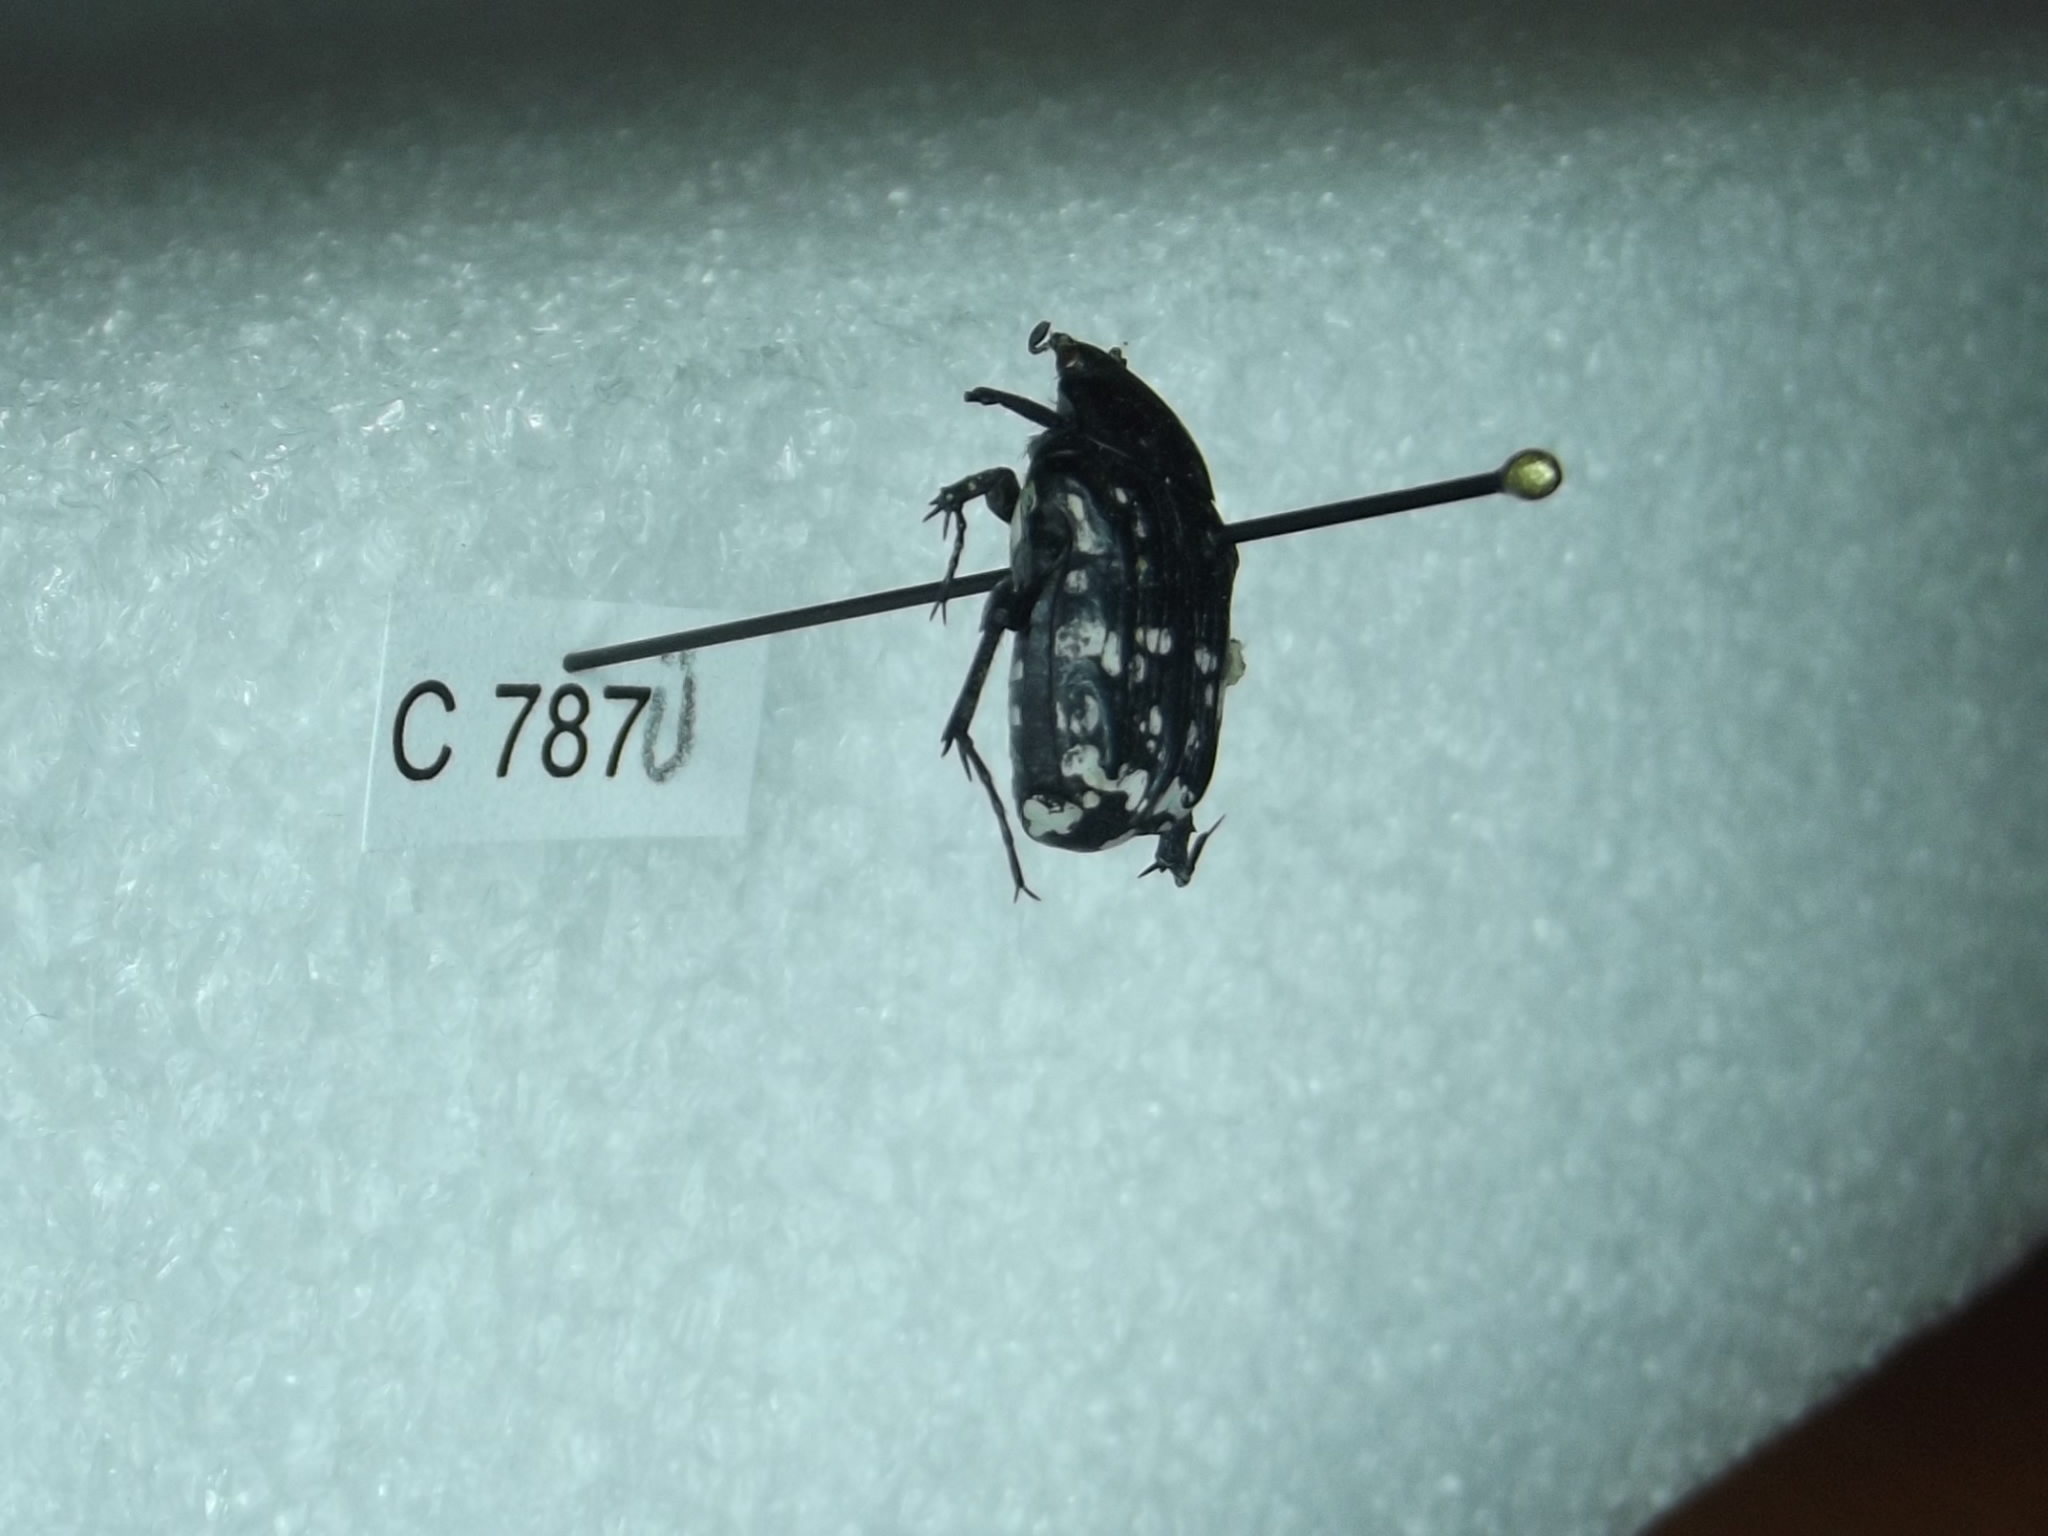Oxythyrea_albopicta: (910, 313, 1242, 915)
